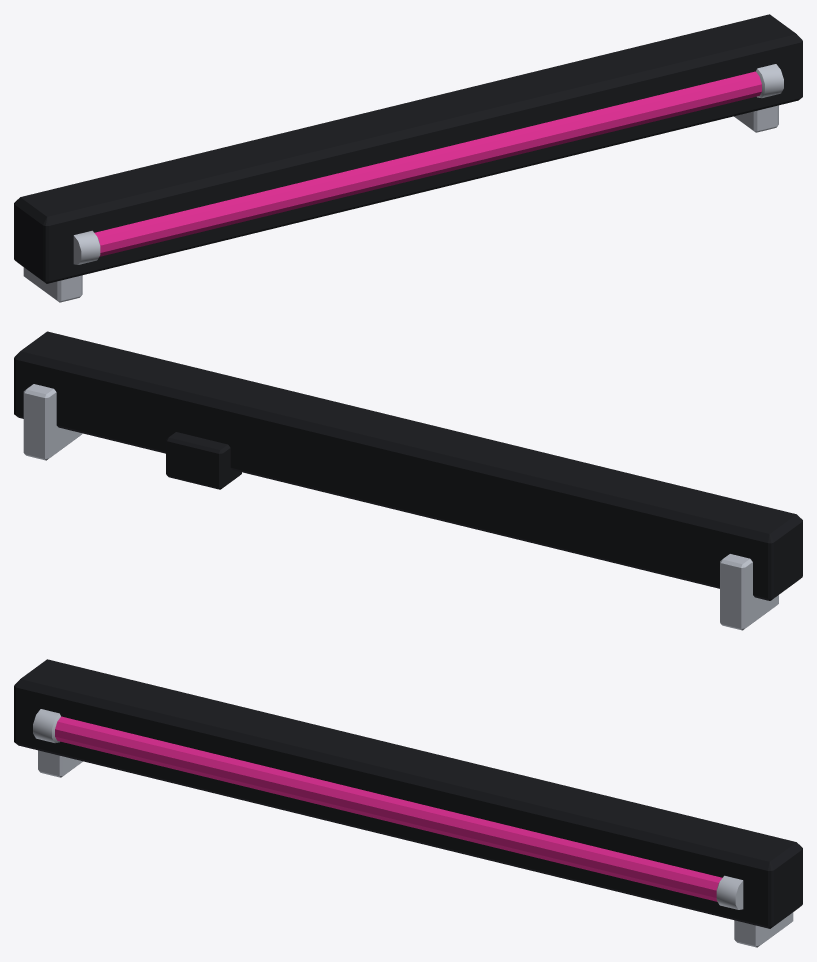
Rendered from NeonStrip.obj.
3 views of the same model, one above another, from view 1: azimuth 30°, elevation 25°; view 2: azimuth 150°, elevation 25°; view 3: azimuth 330°, elevation 25° (orthographic).
Parts seen in each view (by area): view 1: neon-strip-run_0, neon-strip-run_2, neon-strip-run_1; view 2: neon-strip-run_0, neon-strip-run_1; view 3: neon-strip-run_0, neon-strip-run_2, neon-strip-run_1.
Boxes of the visible parts, box(x1,y1,x2,y2) form: neon-strip-run_0: box(14, 14, 802, 283); neon-strip-run_2: box(94, 71, 761, 256); neon-strip-run_1: box(23, 64, 783, 302); neon-strip-run_0: box(14, 331, 802, 600); neon-strip-run_1: box(23, 384, 778, 630); neon-strip-run_0: box(14, 659, 802, 928); neon-strip-run_2: box(55, 716, 722, 901); neon-strip-run_1: box(33, 709, 793, 947).
Bounding box in the file's own units: 1.2 × 0.14 × 0.1359.
